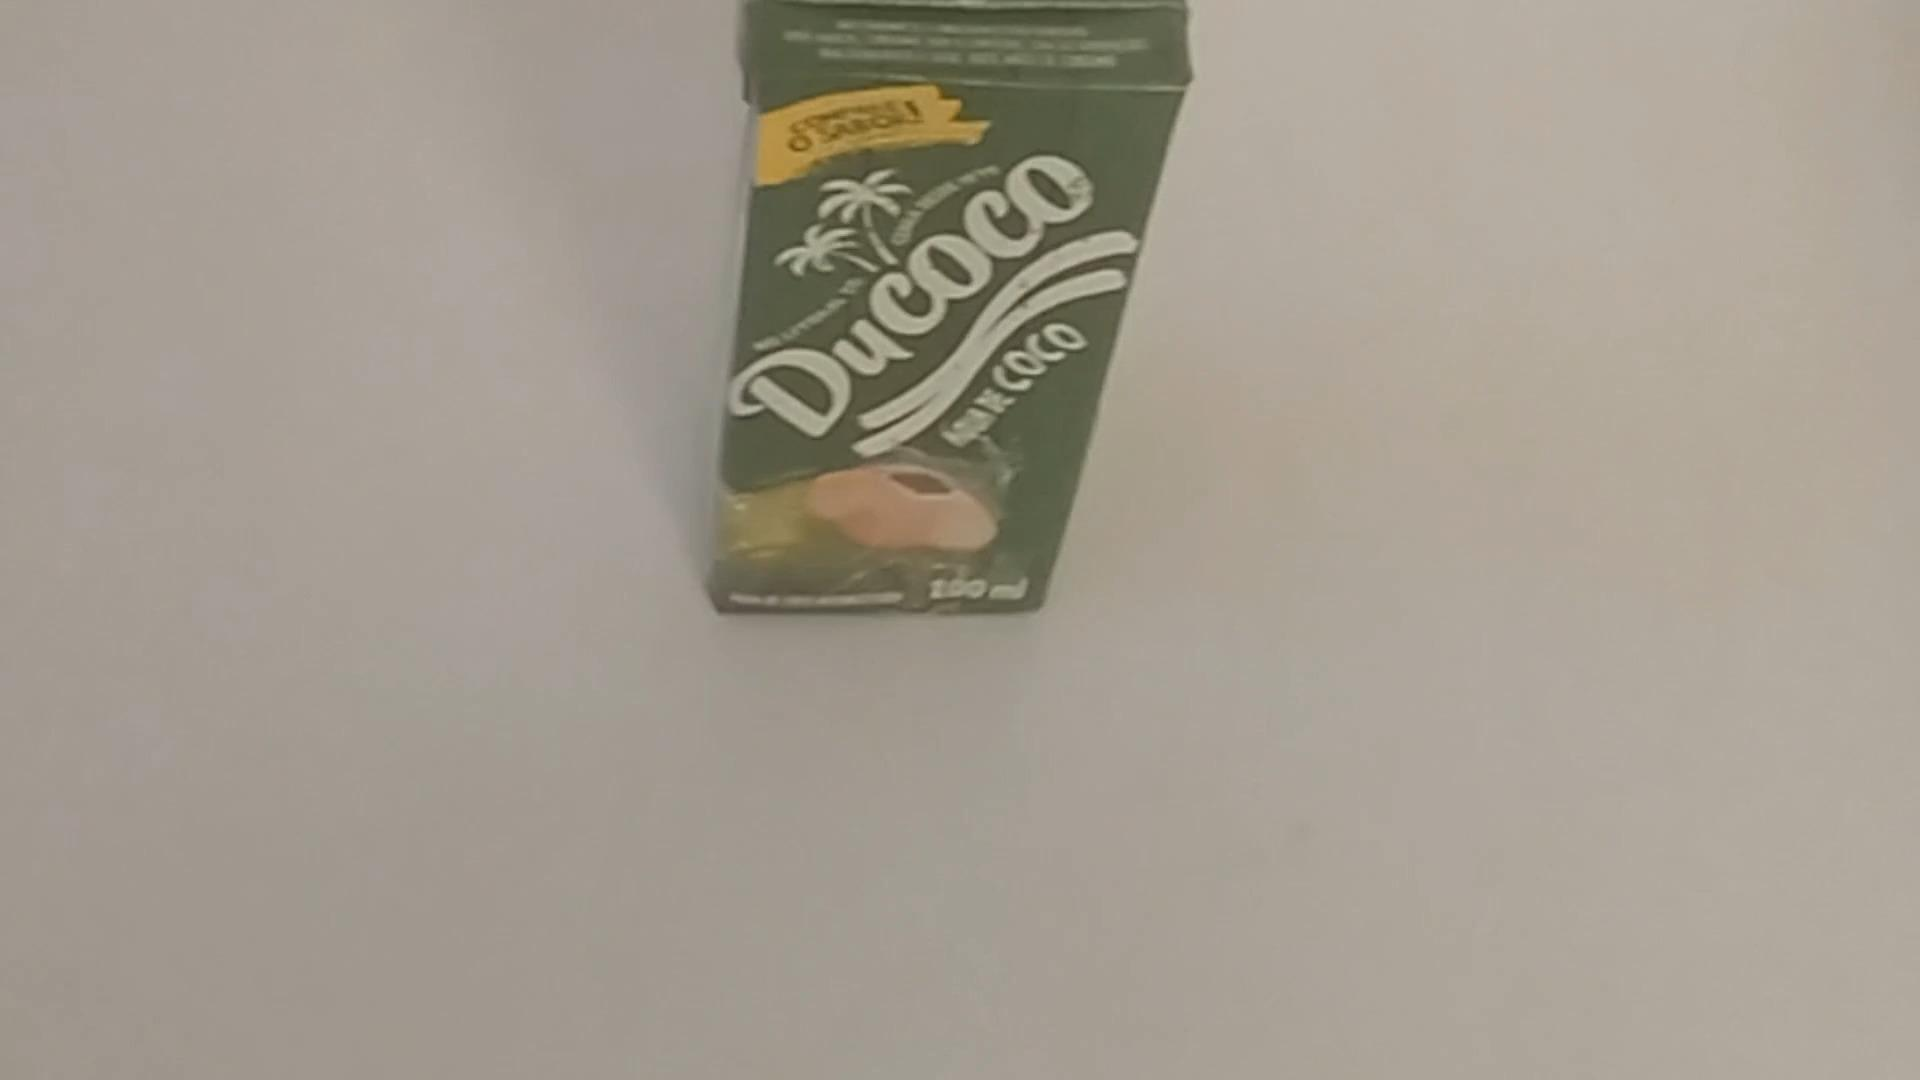coco: (703, 3, 1185, 620)
